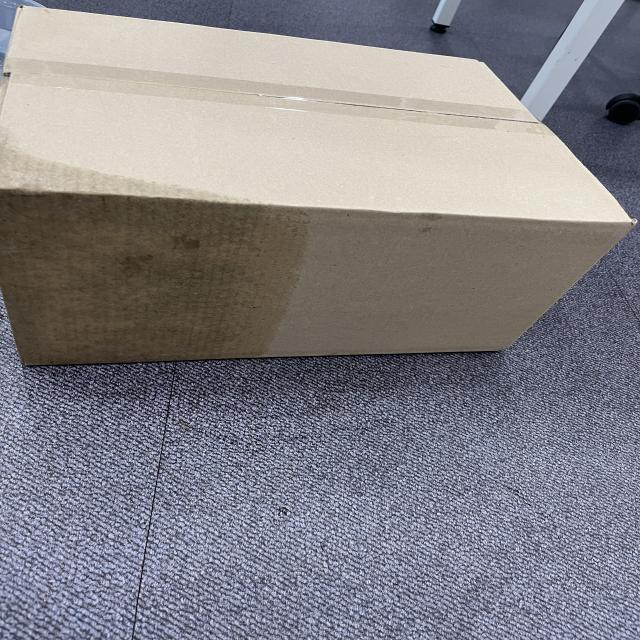wet: (5, 147, 315, 385)
